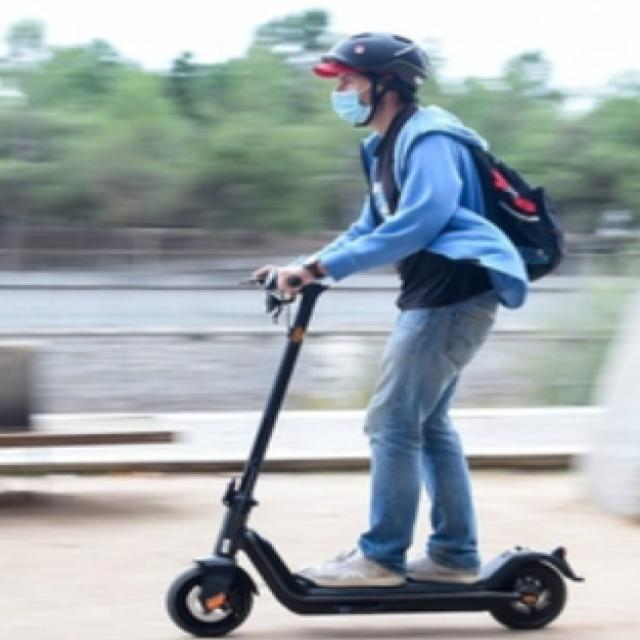helmet: (157, 13, 595, 640)
